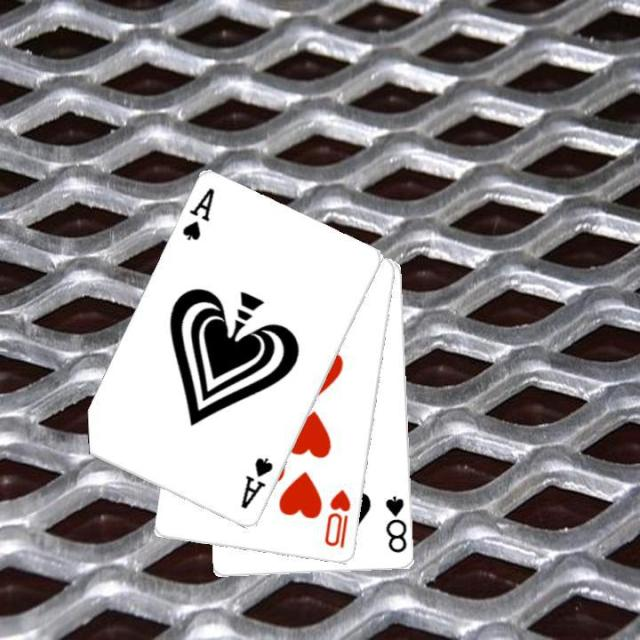10H: (321, 486, 353, 550)
8S: (382, 492, 408, 554)
AS: (179, 184, 217, 244), (238, 454, 276, 511)
